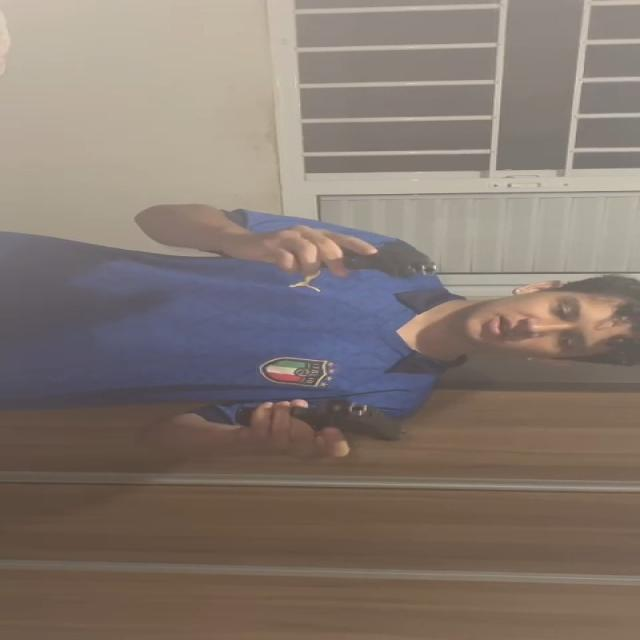gun: (357, 238, 440, 282), (316, 401, 402, 441)
